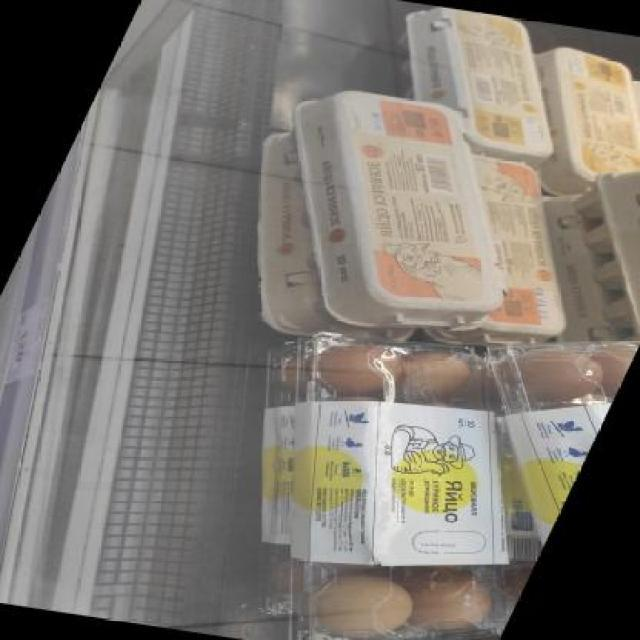Egg: (201, 75, 593, 339)
